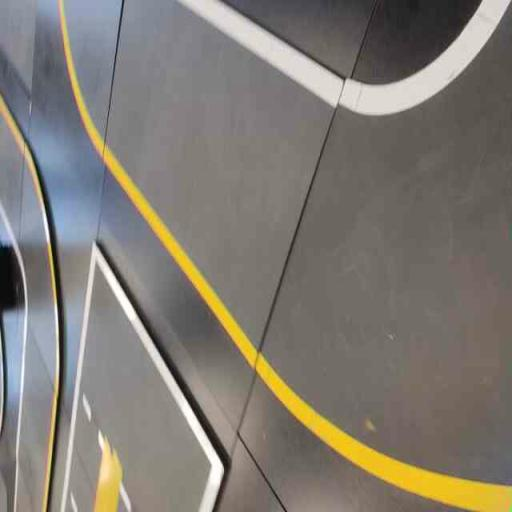right: (245, 0, 511, 511)
